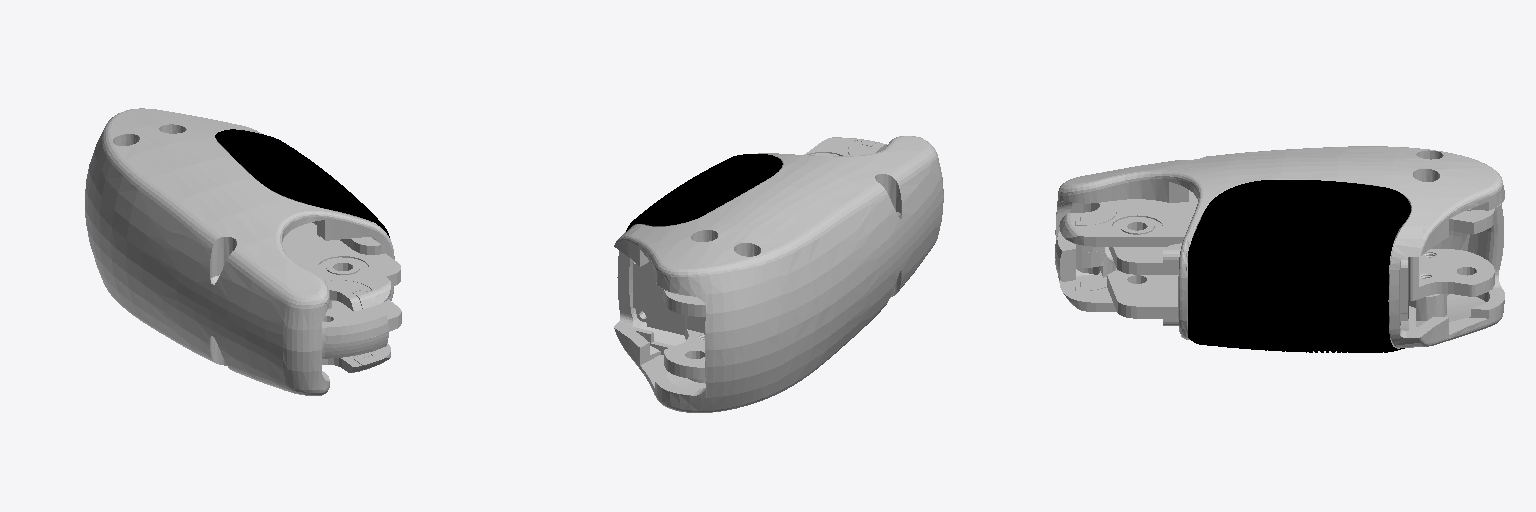
File: thumb_3.obj
3 renders of one model, left to right at view 1: azimuth 30°, elevation 25°; view 2: azimuth 150°, elevation 25°; view 3: azimuth 270°, elevation 25°, orthographic.
Visible parts, largest first — view 1: thumb_metacarpals; view 2: thumb_metacarpals; view 3: thumb_metacarpals.
Boxes of the visible parts, x1,y1,x2,y2 form: thumb_metacarpals: [85, 108, 401, 395]; thumb_metacarpals: [614, 136, 943, 412]; thumb_metacarpals: [1055, 146, 1504, 352].
Size of the model in its own units: 0.033 by 0.0254 by 0.0656.